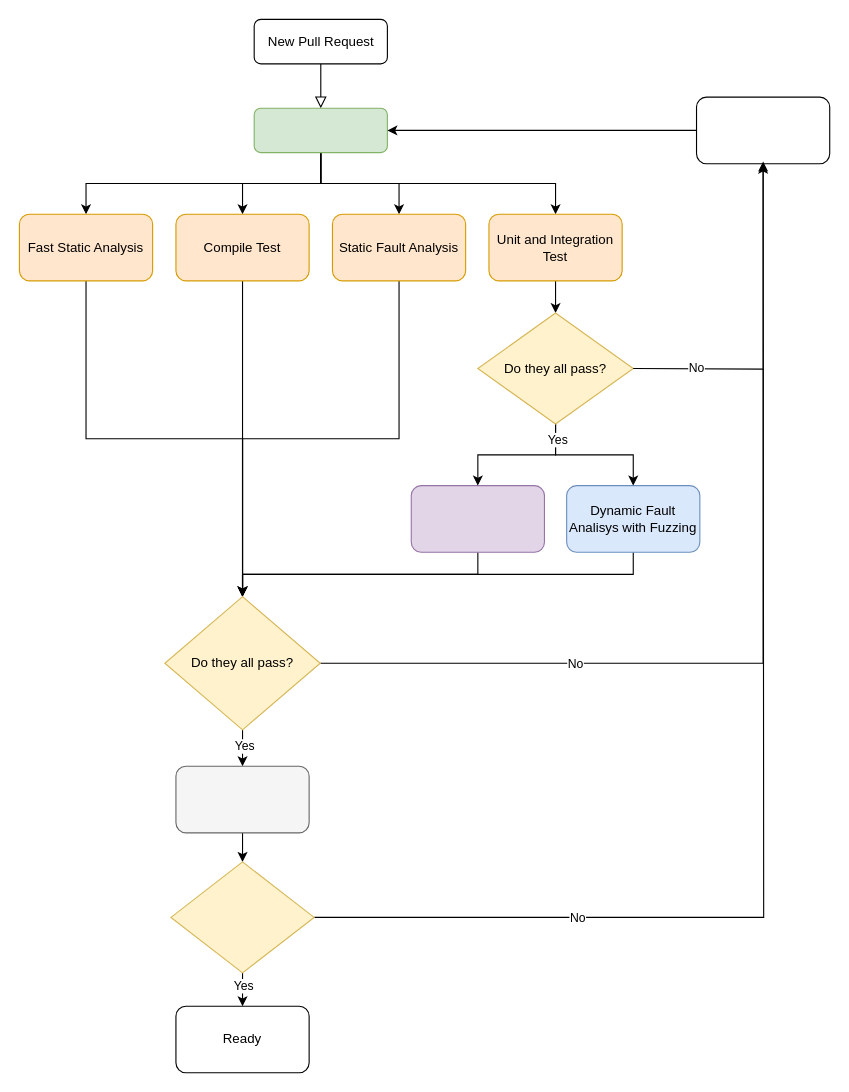
The diagram is 849 pixels wide and 1092 high, and some of its shapes have lost their labels. Each missing label, with the box of its shape:
Dynamic Fault Analisys: (410, 485, 544, 552)
Fix the issues: (695, 96, 830, 164)
In review: (253, 107, 387, 153)
Is it packaged correctly?: (170, 861, 314, 973)
Prepare the Packages: (175, 765, 309, 833)
